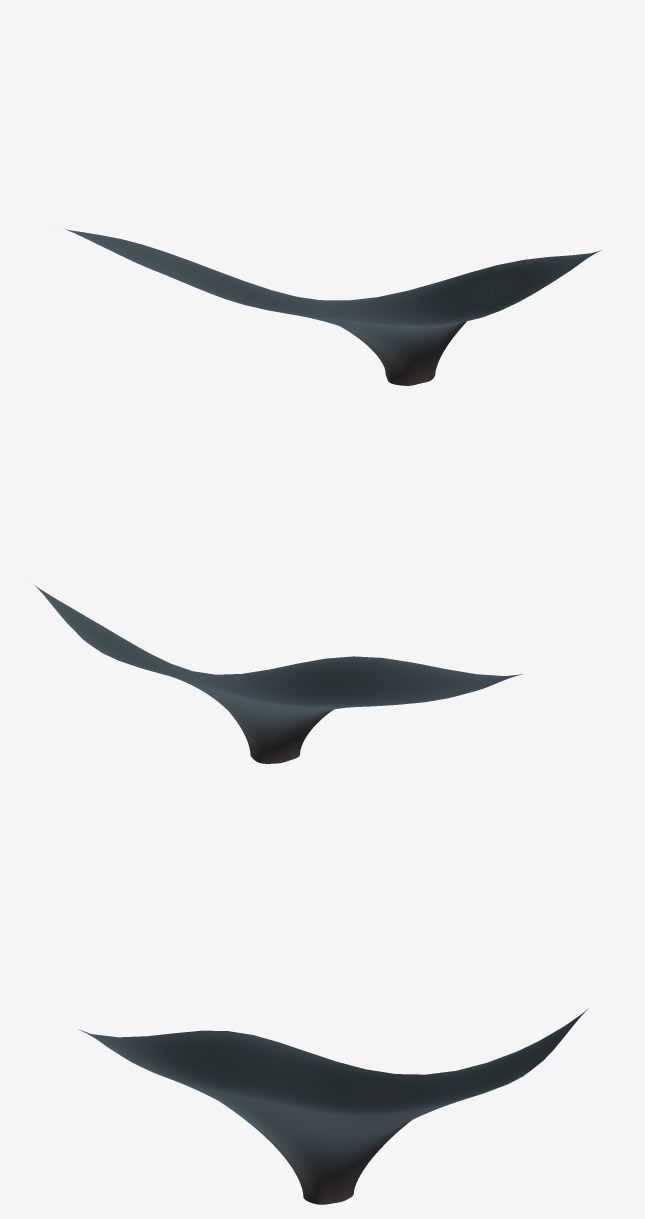
File: tornado-motion.glb
The picture shows the model from 3 angles, top to bottom: view 1: azimuth 30°, elevation 25°; view 2: azimuth 150°, elevation 25°; view 3: azimuth 270°, elevation 25°; orthographic projection.
Parts seen in each view (by area): view 1: Funnel; view 2: Funnel; view 3: Funnel.
Part boxes in pixels (<box>): Funnel: <box>65,229,602,385</box>; Funnel: <box>33,584,523,763</box>; Funnel: <box>78,1008,588,1204</box>.
Bounding box in the file's own units: 64.39 × 27.8 × 64.
